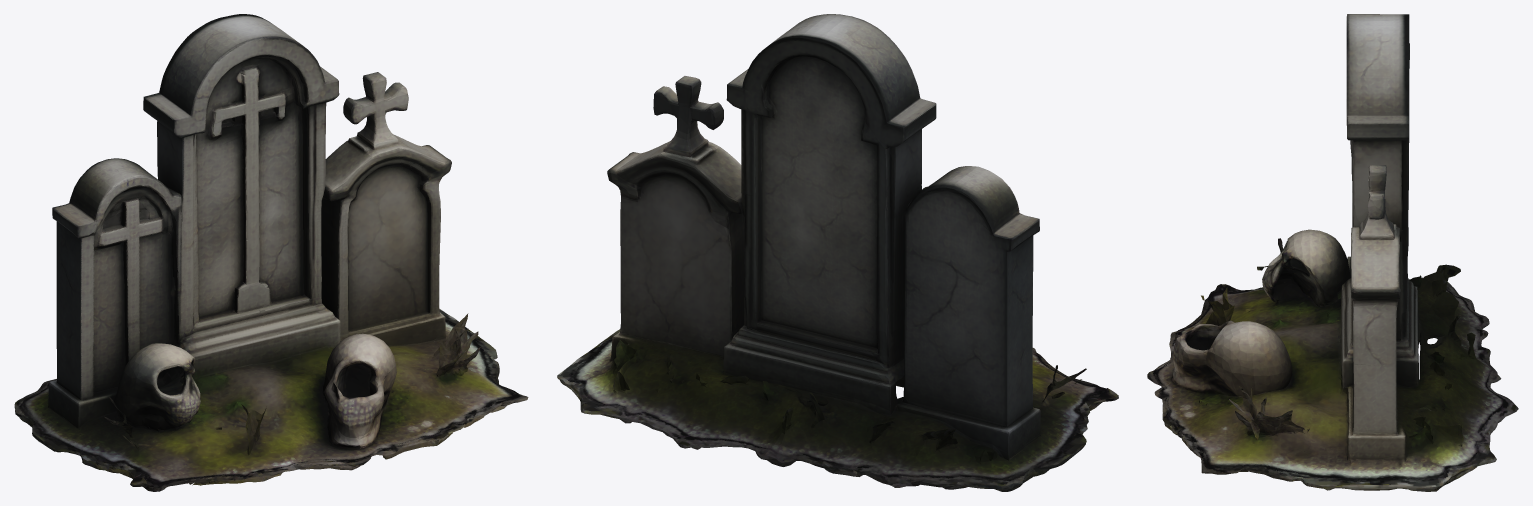
The model's file is haunted-graveyard-2420.glb.
The picture shows the model from 3 angles, left to right: view 1: azimuth 30°, elevation 25°; view 2: azimuth 150°, elevation 25°; view 3: azimuth 270°, elevation 25°; orthographic projection. The views are drawn at different scales.
Visible parts, largest first — view 1: world; view 2: world; view 3: world.
Part boxes in pixels (left/top/right/bottom): world: left=14, top=14, right=528, bottom=491; world: left=557, top=14, right=1118, bottom=491; world: left=1147, top=14, right=1518, bottom=491.
Size of the model in its own units: 1 by 0.7991 by 0.7417.
Materials: 1 (1 with a texture image).
